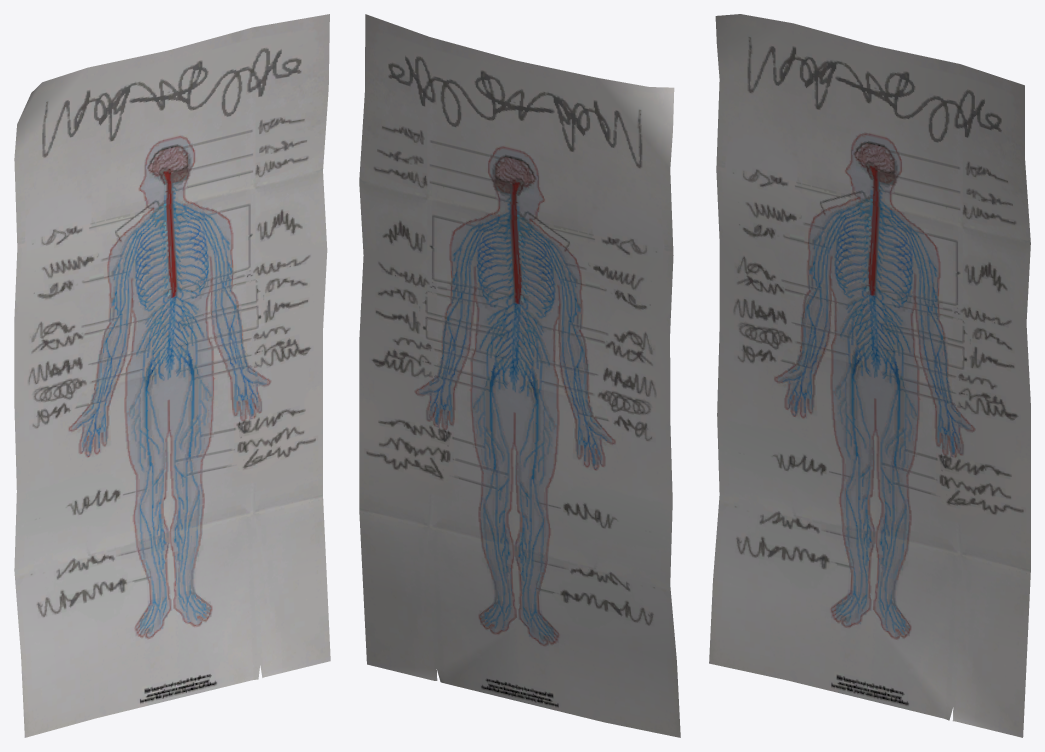
Rendered from poster_nerve_system_wau.dae.
The picture shows the model from 3 angles, left to right: view 1: azimuth 30°, elevation 25°; view 2: azimuth 150°, elevation 25°; view 3: azimuth 330°, elevation 25°; orthographic projection.
Visible parts, largest first — view 1: pPlane5; view 2: pPlane5; view 3: pPlane5.
Boxes of the visible parts, x1,y1,x2,y2 form: pPlane5: (14,14,330,737); pPlane5: (359,14,680,737); pPlane5: (709,14,1030,737).
Size of the model in its own units: 47.27 by 94.43 by 2.81.
